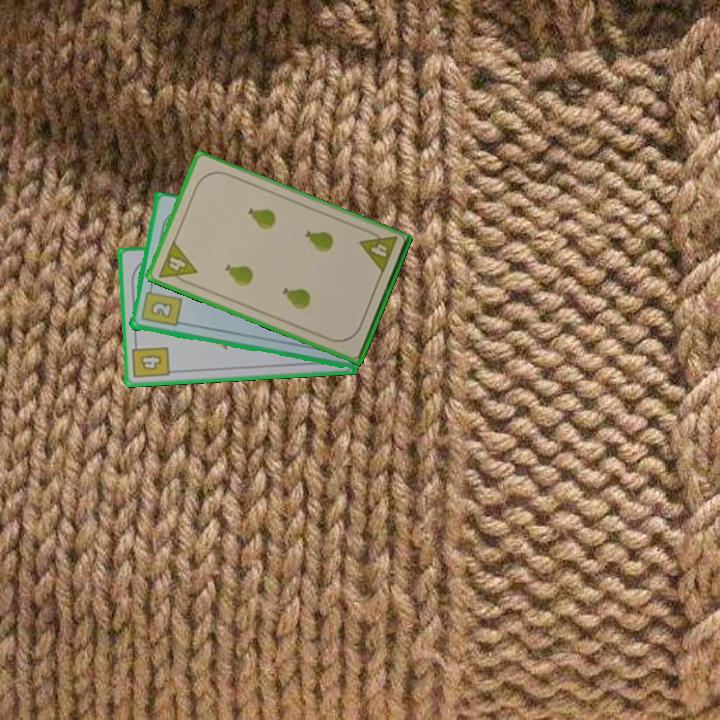2b: (137, 282, 184, 330)
4b: (129, 337, 172, 381)
4p: (155, 238, 200, 289), (356, 226, 400, 277)
